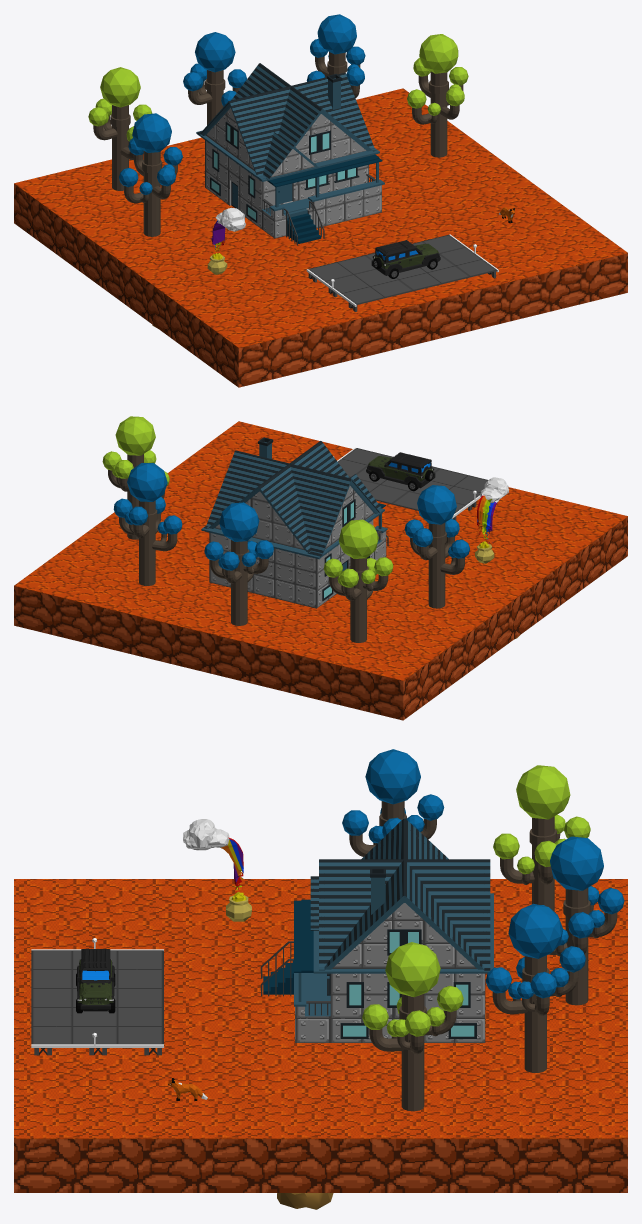
The picture shows the model from 3 angles, top to bottom: view 1: azimuth 30°, elevation 25°; view 2: azimuth 150°, elevation 25°; view 3: azimuth 270°, elevation 25°; orthographic projection. The views are drawn at different scales.
Visible parts, largest first — view 1: Cube.001, Cube.078, VEHICLES_JEEP, OBJRANDOM_RAINBOW; view 2: Cube.001, Cube.078, VEHICLES_JEEP, OBJRANDOM_RAINBOW; view 3: Cube.001, Cube.078, VEHICLES_JEEP, OBJRANDOM_RAINBOW, UNDERGROUND_T_REX_BONES.
Boxes of the visible parts, x1,y1,x2,y2 form: Cube.001: (14,14,627,387); Cube.078: (196,63,384,245); VEHICLES_JEEP: (371,240,440,278); OBJRANDOM_RAINBOW: (207,207,245,274); Cube.001: (14,416,627,720); Cube.078: (201,437,388,608); VEHICLES_JEEP: (366,452,435,491); OBJRANDOM_RAINBOW: (475,477,508,563); Cube.001: (14,749,627,1192); Cube.078: (260,818,493,1042); VEHICLES_JEEP: (76,949,115,1013); OBJRANDOM_RAINBOW: (183,819,251,921); UNDERGROUND_T_REX_BONES: (277,1193,333,1209).
Size of the model in its own units: 4000 by 1777 by 4000.
37 materials, 6 textured.
